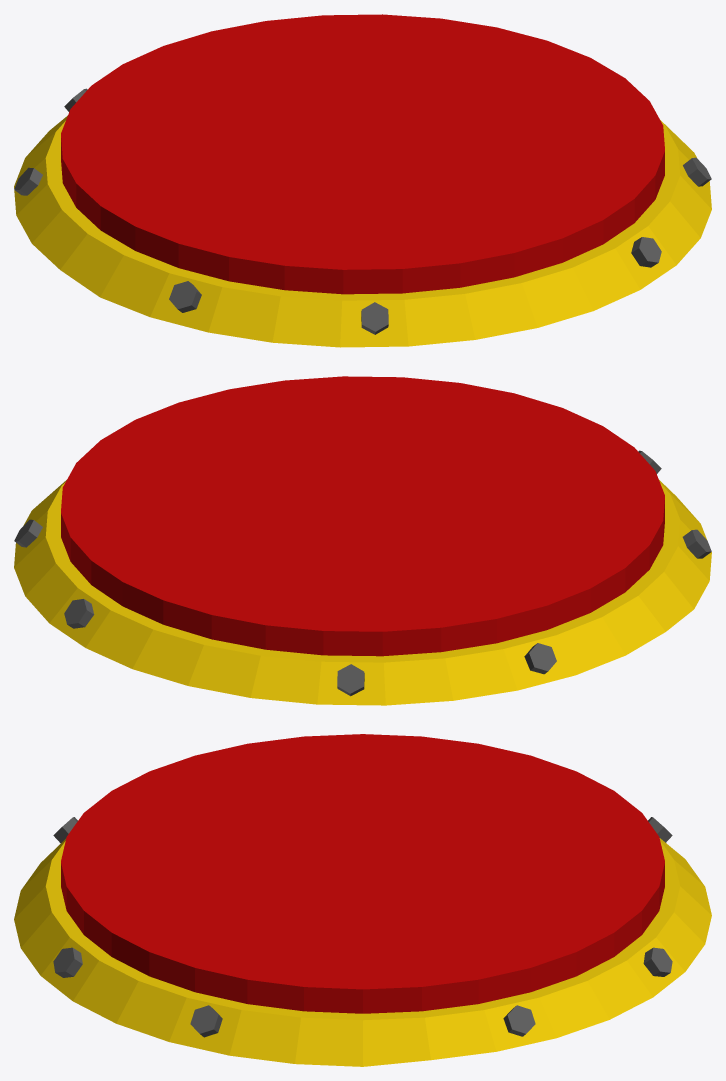
File: Mine.fbx
3 views of the same model, one above another, from view 1: azimuth 30°, elevation 25°; view 2: azimuth 150°, elevation 25°; view 3: azimuth 270°, elevation 25° (orthographic).
Visible parts, largest first — view 1: Cylinder; view 2: Cylinder; view 3: Cylinder.
Boxes of the visible parts, x1,y1,x2,y2 form: Cylinder: (14, 14, 711, 347); Cylinder: (14, 376, 711, 705); Cylinder: (14, 734, 711, 1066).
Size of the model in its own units: 129 by 11.8 by 129.
